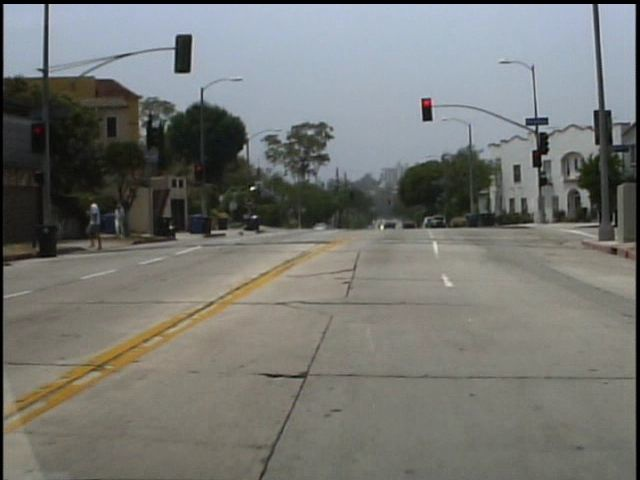person: (86, 193, 111, 249), (119, 201, 134, 242)
